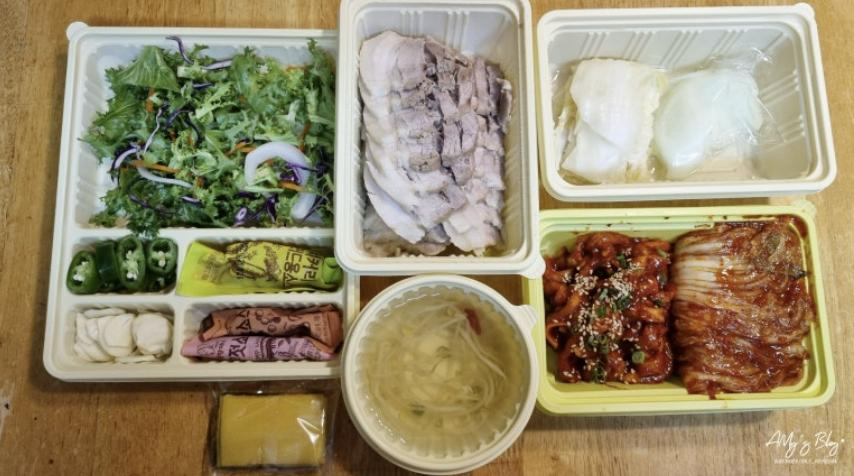Lunch Box: (43, 22, 358, 381), (523, 201, 834, 415), (536, 4, 835, 201), (334, 0, 545, 279), (341, 275, 538, 474), (208, 379, 339, 475)
